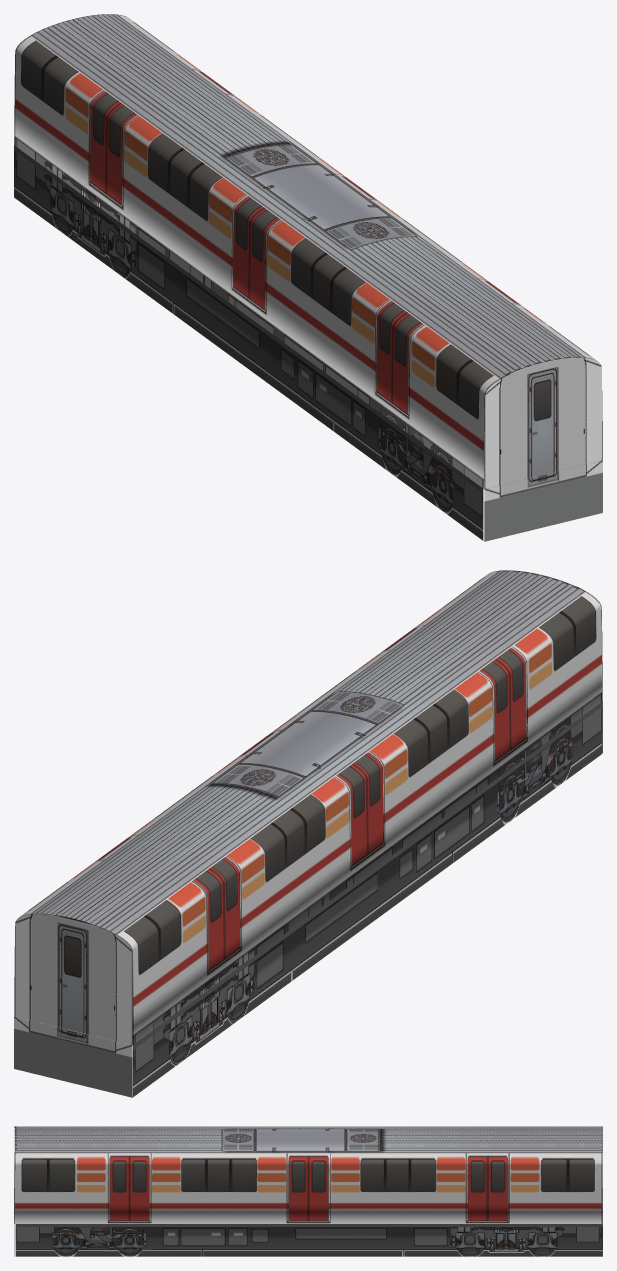
Rendered from car2.glb.
The picture shows the model from 3 angles, top to bottom: view 1: azimuth 30°, elevation 25°; view 2: azimuth 150°, elevation 25°; view 3: azimuth 270°, elevation 25°; orthographic projection. The views are drawn at different scales.
Parts seen in each view (by area): view 1: sanyo-6000-car2; view 2: sanyo-6000-car2; view 3: sanyo-6000-car2.
Boxes of the visible parts, x1=… form: sanyo-6000-car2: x1=14, y1=14, x2=602, y2=541; sanyo-6000-car2: x1=14, y1=570, x2=602, y2=1097; sanyo-6000-car2: x1=14, y1=1126, x2=602, y2=1256.
Bounding box in the file's own units: 2.75 × 3.64 × 18.91.
9 materials, 8 textured.
